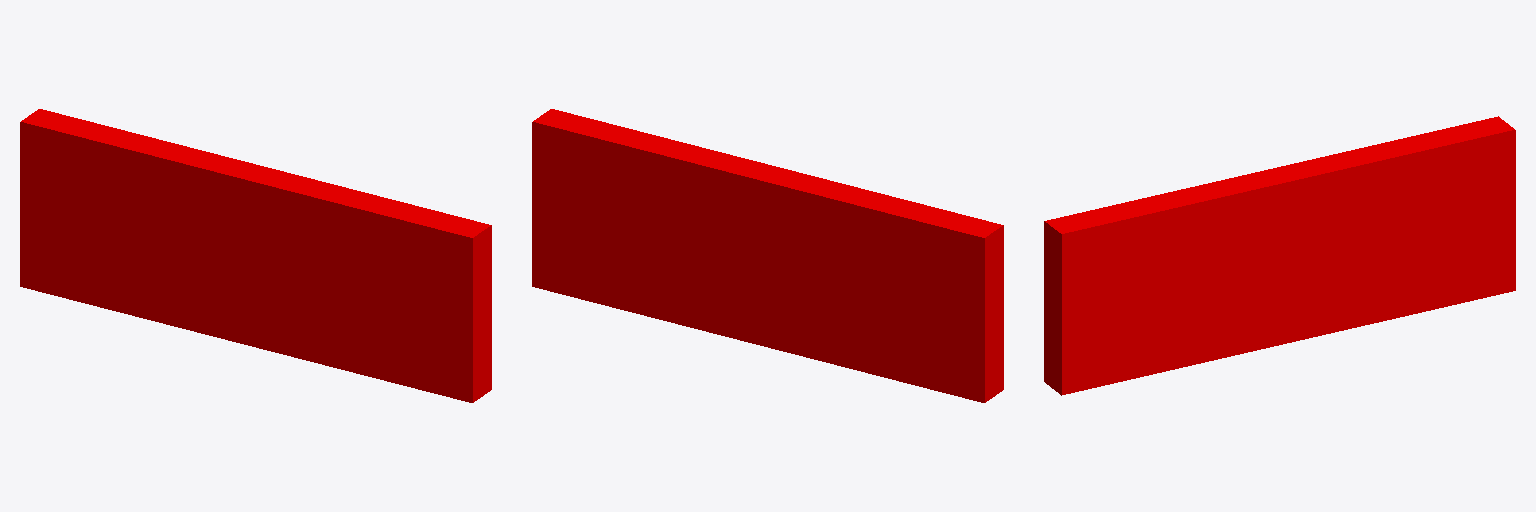
The robot description file, URDF, robot "side_boundaries":
<?xml version="1.0"?>
<!-- created with Phobos 1.0.1 "Capricious Choutengan" -->
  <robot name="side_boundaries">

    <link name="side_wall">
      <inertial>
        <contact>
          <lateral_friction value="1"/>
        </contact>
        <origin xyz="0 0 0" rpy="0 0 0"/>
        <mass value="0.001"/>
        <inertia ixx="0.001" ixy="0" ixz="0" iyy="0.001" iyz="0" izz="0.001"/>
      </inertial>
      <visual name="Cube">
        <origin xyz="0 0 0" rpy="0 0 0.4993467"/>
        <material name="red">
          <color rgba="1.0 0 0 1.0"/>
        </material>
        <geometry>
          <box size="0.1 1.453 0.5"/>
        </geometry>
      </visual>
      <collision>
        <origin xyz="0 0 0" rpy="0 0 0.4993467"/>
        <geometry>
          <box size="0.1 1.253 0.5"/>
        </geometry>
      </collision>
    </link>

    <material name="red">
      <color rgba="1 1 1 1"/>
    </material>

  </robot>

--- Facts derived from the render (not from the file) ---
Views: 3 orthographic renders of the robot side by side, from view 1: azimuth 30°, elevation 25°; view 2: azimuth 210°, elevation 25°; view 3: azimuth 270°, elevation 25°.
Robot: side_boundaries — 1 links, 0 joints (none); root link side_wall; default pose: every joint at zero.
Visible links, largest first — view 1: side_wall; view 2: side_wall; view 3: side_wall.
Link boxes in pixels (x1=…): side_wall: x1=20, y1=109, x2=491, y2=402; side_wall: x1=532, y1=109, x2=1003, y2=402; side_wall: x1=1044, y1=116, x2=1515, y2=395.
Size in the robot's own frame: 0.7836 by 1.32 by 0.5 metres.
Geometry: primitives only (box / cylinder / sphere), no mesh files.